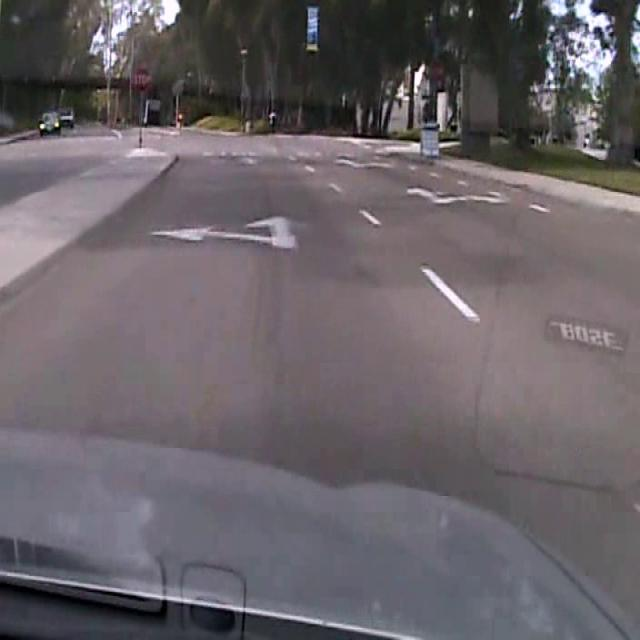stop: (131, 65, 152, 92), (426, 56, 446, 84)
